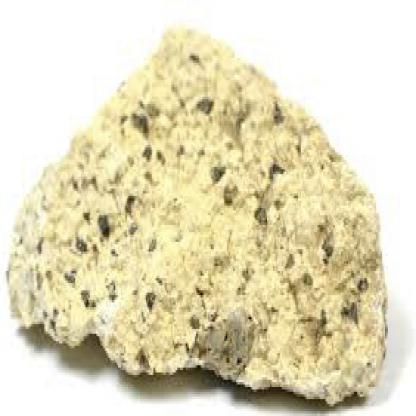Metamorphic_Quartize: (4, 26, 397, 408)
